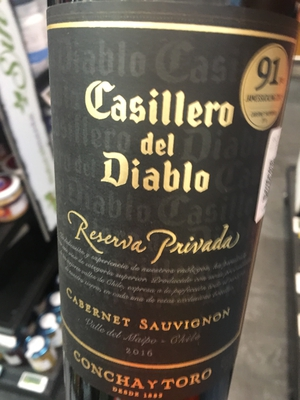casillero del diablo reserva privada cabernet sauvignon: (43, 1, 300, 396)
